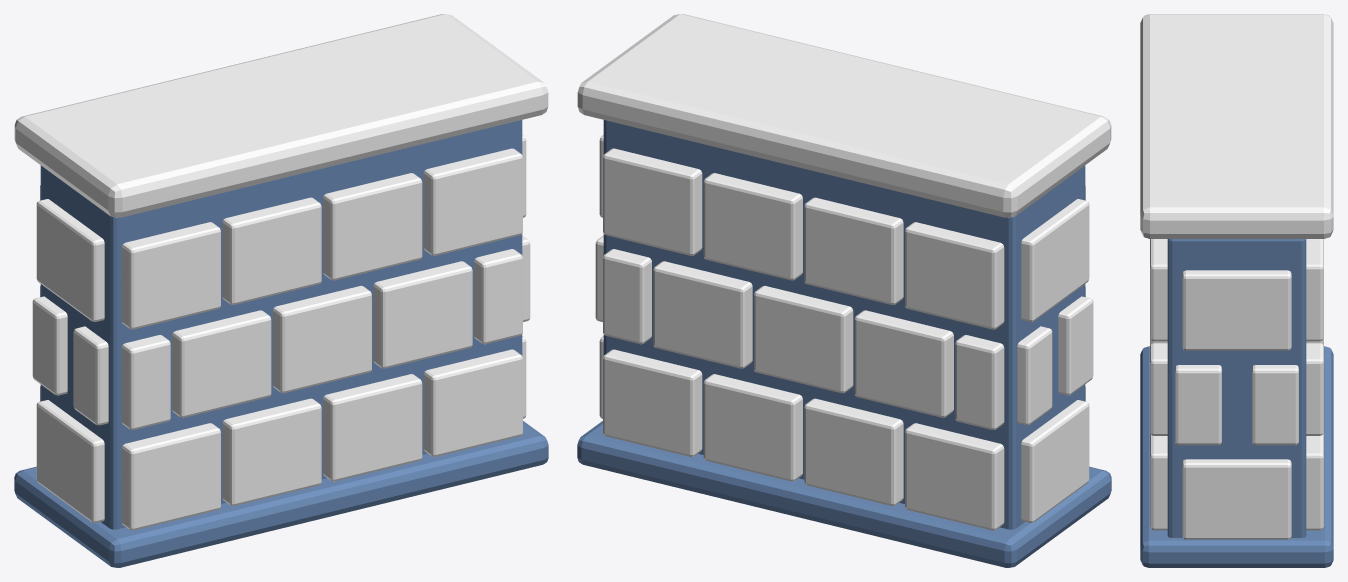
The model's file is firewall.glb.
3 views of the same model, side by side, from view 1: azimuth 30°, elevation 25°; view 2: azimuth 150°, elevation 25°; view 3: azimuth 270°, elevation 25° (orthographic). The views are drawn at different scales.
Visible parts, largest first — view 1: cap, core, plinth, brick.1.1.0, brick.1.1.2, brick.1.0.3, brick.1.2.0, brick.1.0.0, brick.1.2.1, brick.1.0.1, brick.1.2.3, brick.1.1.1 (+9 smaller); view 2: cap, core, plinth, brick.-1.1.0, brick.-1.1.2, brick.-1.0.3, brick.-1.2.0, brick.-1.0.0, brick.-1.2.1, brick.-1.0.1, brick.-1.2.3, brick.-1.1.1 (+9 smaller); view 3: cap, core, plinth, end-brick.1.0, end-brick.1.2, end-half.1.1.1, end-half.1.1.-1, brick.1.2.3, brick.-1.2.3, brick.1.0.3, brick.-1.0.3, half-brick.1.1.1 (+1 smaller).
Boxes of the visible parts, box(x1,y1,x2,y2) form: cap: box(14, 14, 548, 217); core: box(40, 120, 522, 529); plinth: box(14, 421, 548, 567); brick.1.1.0: box(172, 310, 271, 417); brick.1.1.2: box(373, 261, 472, 368); brick.1.0.3: box(423, 349, 522, 456); brick.1.2.0: box(121, 222, 220, 329); brick.1.0.0: box(121, 423, 220, 530); brick.1.2.1: box(222, 197, 321, 304); brick.1.0.1: box(222, 398, 321, 505); brick.1.2.3: box(423, 148, 522, 255); brick.1.1.1: box(272, 286, 371, 393); cap: box(577, 14, 1111, 217); core: box(603, 120, 1085, 529); plinth: box(577, 421, 1111, 567); brick.-1.1.0: box(854, 310, 953, 417); brick.-1.1.2: box(653, 261, 752, 368); brick.-1.0.3: box(603, 349, 702, 456); brick.-1.2.0: box(905, 222, 1004, 329); brick.-1.0.0: box(905, 423, 1004, 530); brick.-1.2.1: box(804, 197, 903, 304); brick.-1.0.1: box(804, 398, 903, 505); brick.-1.2.3: box(603, 148, 702, 255); brick.-1.1.1: box(754, 286, 853, 393); cap: box(1140, 14, 1333, 238); core: box(1167, 239, 1306, 537); plinth: box(1140, 346, 1333, 567); end-brick.1.0: box(1182, 459, 1291, 539); end-brick.1.2: box(1182, 270, 1291, 350); end-half.1.1.1: box(1175, 365, 1221, 445); end-half.1.1.-1: box(1252, 365, 1298, 445); brick.1.2.3: box(1150, 239, 1167, 341); brick.-1.2.3: box(1306, 239, 1323, 341); brick.1.0.3: box(1150, 433, 1167, 530); brick.-1.0.3: box(1306, 433, 1323, 530); half-brick.1.1.1: box(1150, 343, 1167, 435).
Bounding box in the file's own units: 1.92 × 1.6 × 0.78.
